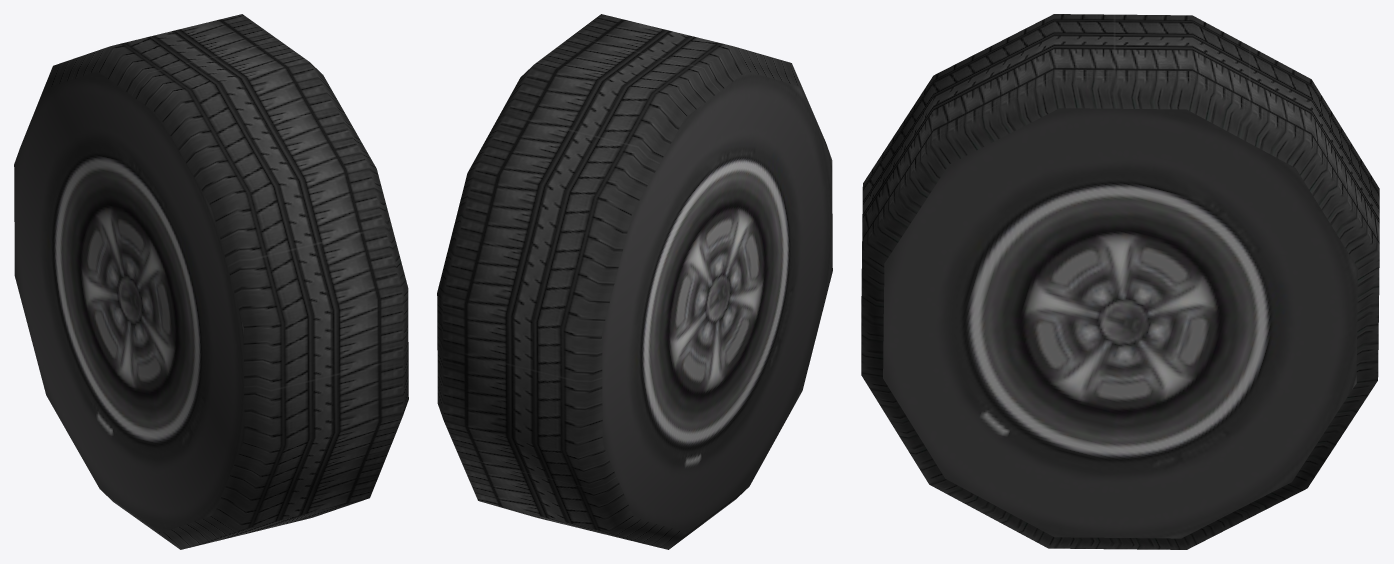
File: WheelMuscle.FBX
3 views of the same model, side by side, from view 1: azimuth 30°, elevation 25°; view 2: azimuth 150°, elevation 25°; view 3: azimuth 270°, elevation 25° (orthographic). The views are drawn at different scales.
Parts seen in each view (by area): view 1: wheelMuscle001; view 2: wheelMuscle001; view 3: wheelMuscle001.
Part boxes in pixels (<box>): wheelMuscle001: <box>14,14,408,549</box>; wheelMuscle001: <box>437,14,832,549</box>; wheelMuscle001: <box>861,14,1379,549</box>.
Bounding box in the file's own units: 25.49 × 67.44 × 67.44.
